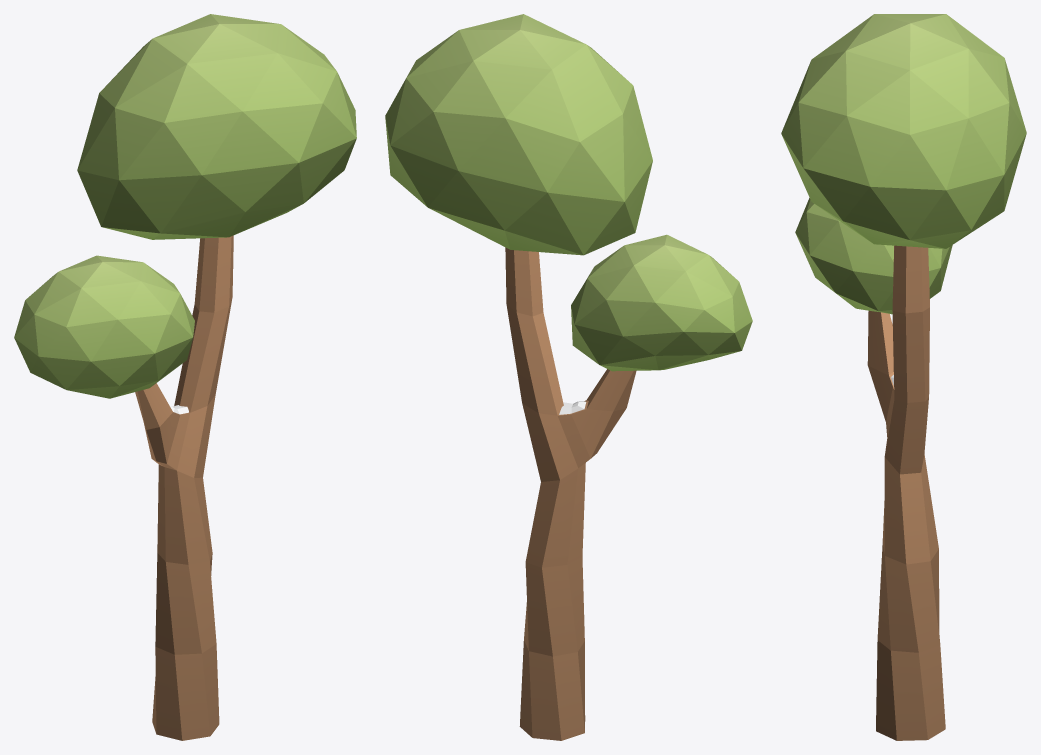
The model's file is feuillu1_complet.fbx.
The picture shows the model from 3 angles, left to right: view 1: azimuth 30°, elevation 25°; view 2: azimuth 150°, elevation 25°; view 3: azimuth 270°, elevation 25°; orthographic projection. The views are drawn at different scales.
Parts seen in each view (by area): view 1: Icosphere, Cylinder, Icosphere.001; view 2: Icosphere, Cylinder, Icosphere.001; view 3: Icosphere, Cylinder, Icosphere.001.
Part boxes in pixels (<box>): Icosphere: <box>77,14,356,239</box>; Cylinder: <box>135,235,233,740</box>; Icosphere.001: <box>14,255,194,398</box>; Icosphere: <box>385,14,652,255</box>; Cylinder: <box>505,247,636,740</box>; Icosphere.001: <box>571,234,752,371</box>; Icosphere: <box>781,14,1026,248</box>; Cylinder: <box>867,245,945,740</box>; Icosphere.001: <box>795,198,952,314</box>.
Size of the model in its own units: 5.58 by 11.23 by 3.47.
Materials: 2 (2 with a texture image).
